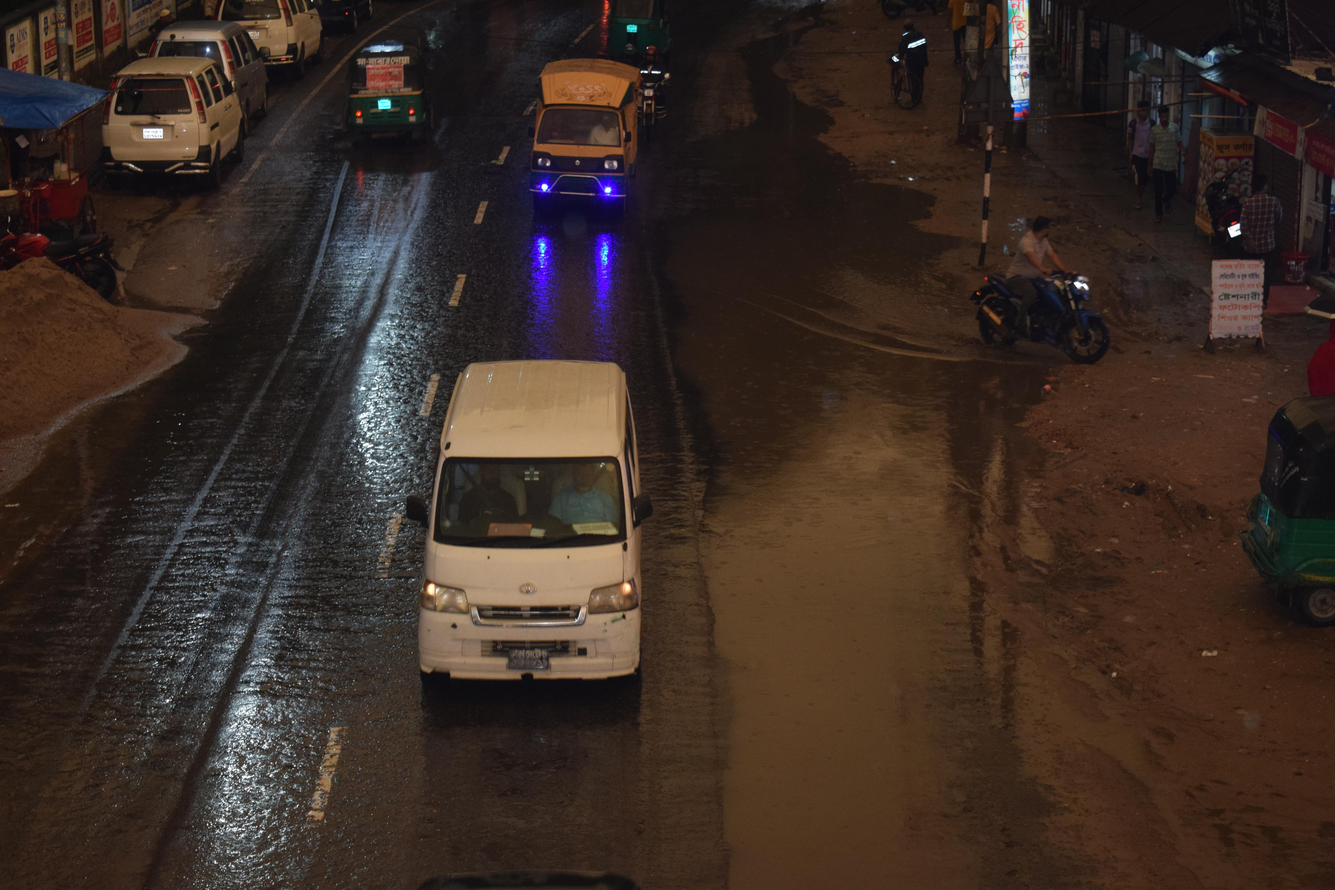Bike: (943, 193, 1153, 405), (627, 25, 687, 150)
Car: (357, 295, 708, 777), (75, 40, 277, 207), (502, 39, 669, 239), (135, 19, 292, 131), (203, 0, 352, 81)
